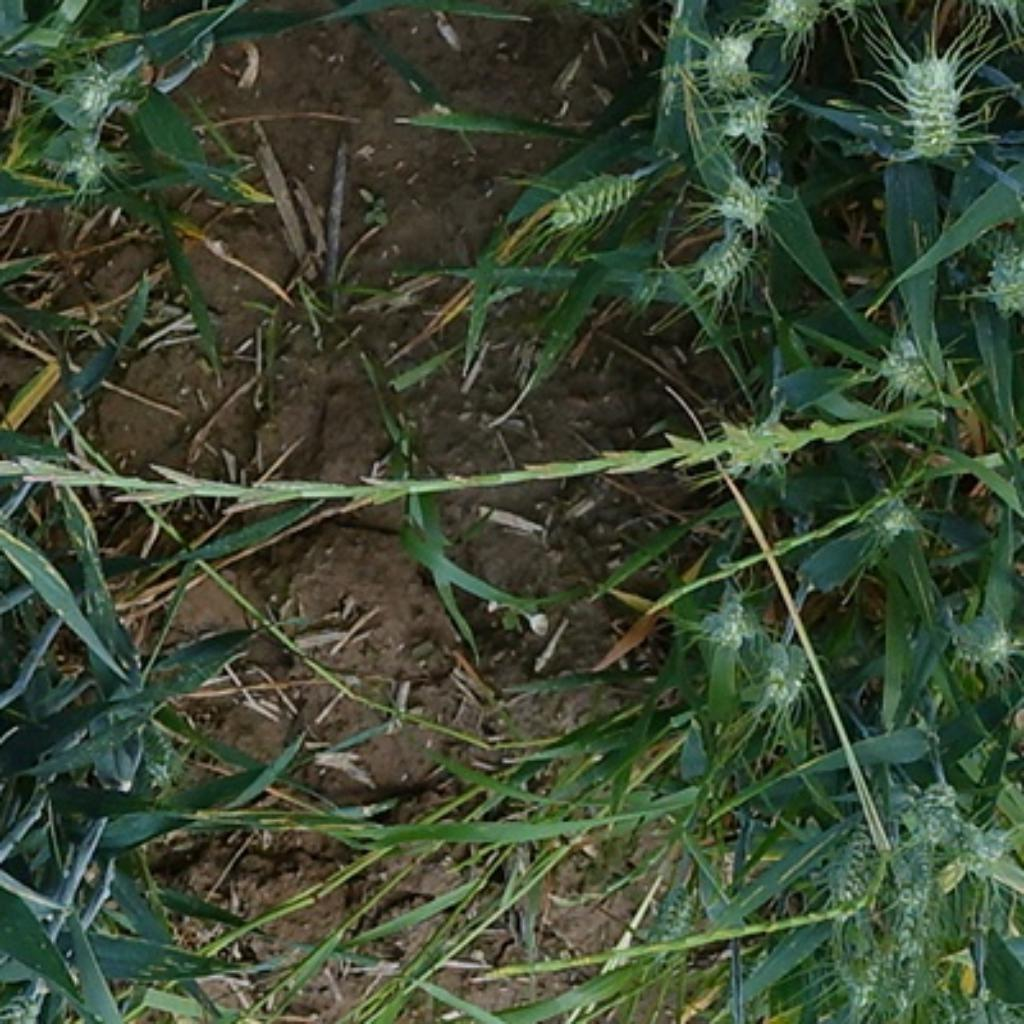0-0: (898, 778, 1018, 875), (888, 40, 972, 161), (48, 40, 138, 140), (808, 806, 893, 911), (826, 926, 921, 1016), (870, 844, 944, 957), (540, 163, 650, 238), (640, 870, 706, 967), (844, 481, 924, 560), (744, 637, 824, 716), (709, 409, 803, 476), (867, 322, 947, 399), (686, 220, 768, 294), (686, 581, 760, 663), (40, 125, 117, 194), (944, 599, 1018, 670), (691, 28, 757, 97), (970, 225, 1024, 309), (131, 709, 182, 786), (709, 174, 780, 227), (719, 92, 778, 143), (752, 0, 826, 35)
